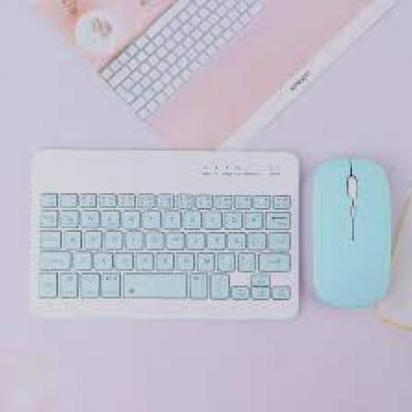keyboard: (29, 146, 302, 321)
